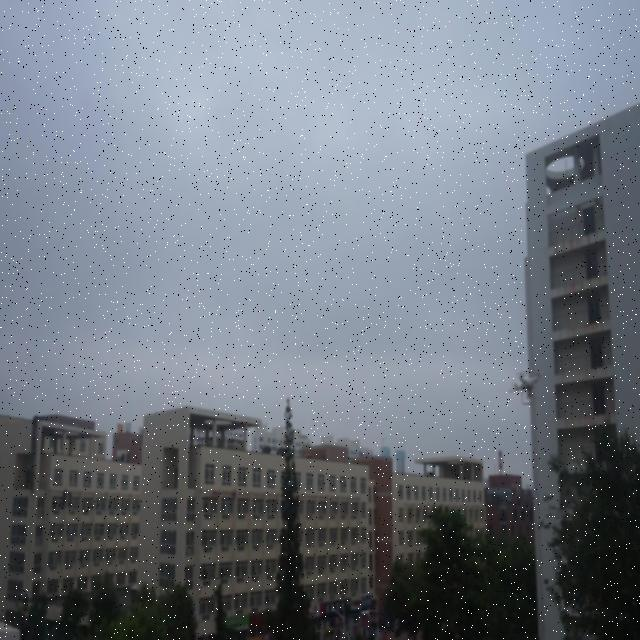UAV: (508, 370, 542, 404)
